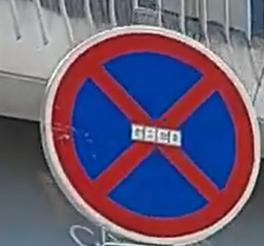paragem e estacionamento proibido: (25, 26, 264, 246)
